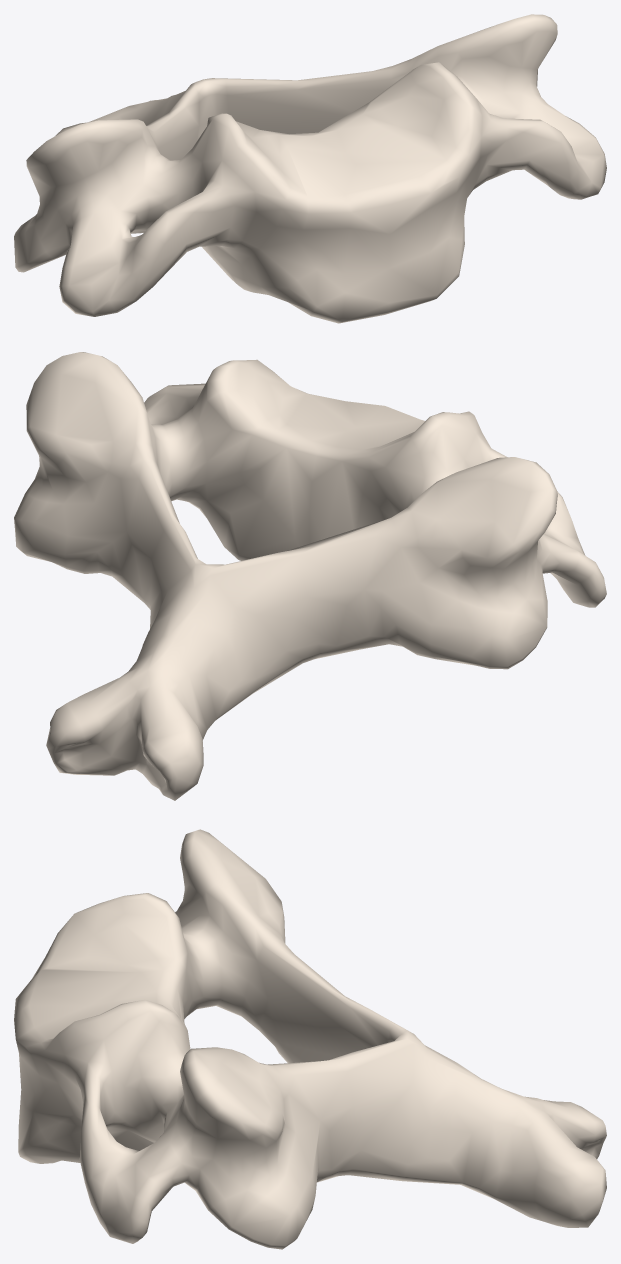
3 views of the same model, one above another, from view 1: azimuth 30°, elevation 25°; view 2: azimuth 150°, elevation 25°; view 3: azimuth 270°, elevation 25° (orthographic). The views are drawn at different scales.
Parts seen in each view (by area): view 1: Cervical vertebrae (C4); view 2: Cervical vertebrae (C4); view 3: Cervical vertebrae (C4).
Part boxes in pixels (x1=…): Cervical vertebrae (C4): x1=14, y1=14, x2=606, y2=323; Cervical vertebrae (C4): x1=14, y1=352, x2=606, y2=800; Cervical vertebrae (C4): x1=14, y1=829, x2=606, y2=1249.
Bounding box in the file's own units: 0.0574 × 0.0252 × 0.052.
